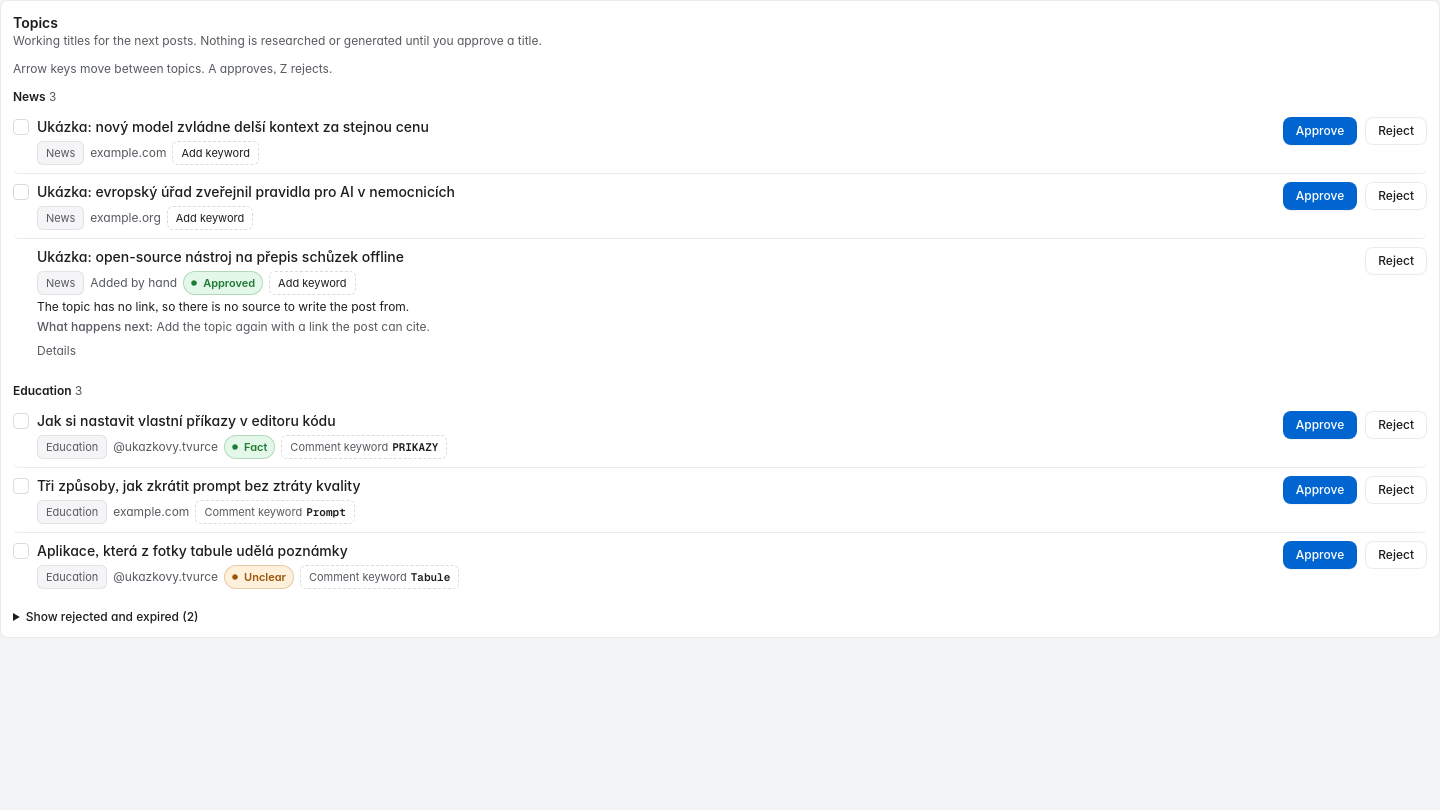
Test: DNESKAi topics list (#154) › approves the selected topics at once
Click the checkbox named "Select: Ukázka: nový model zvládne delší kontext za stejnou": (21, 127) [13, 119, 29, 135]
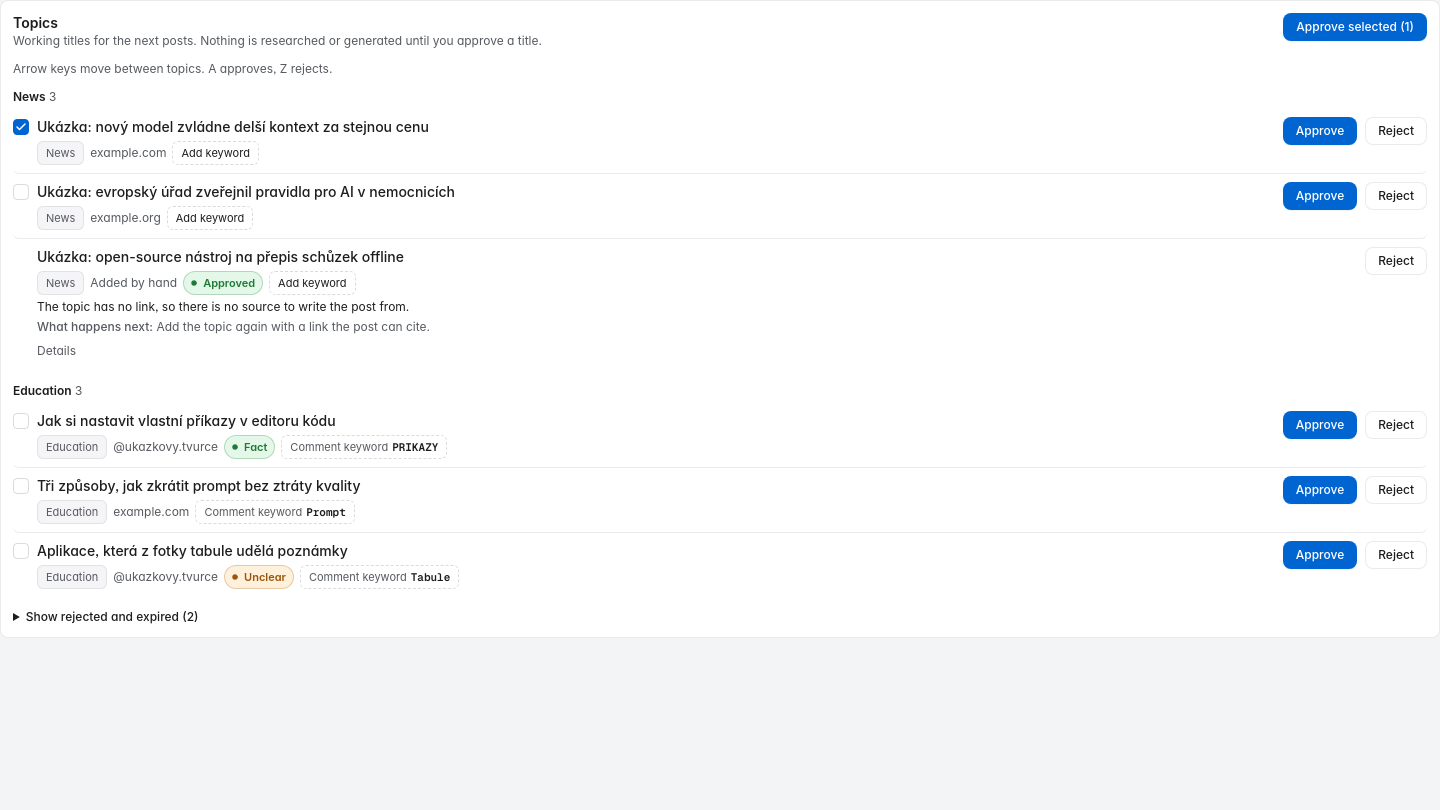
Click the checkbox named "Select: Tři způsoby, jak zkrátit prompt bez ztráty kvality": (21, 486) [13, 478, 29, 494]
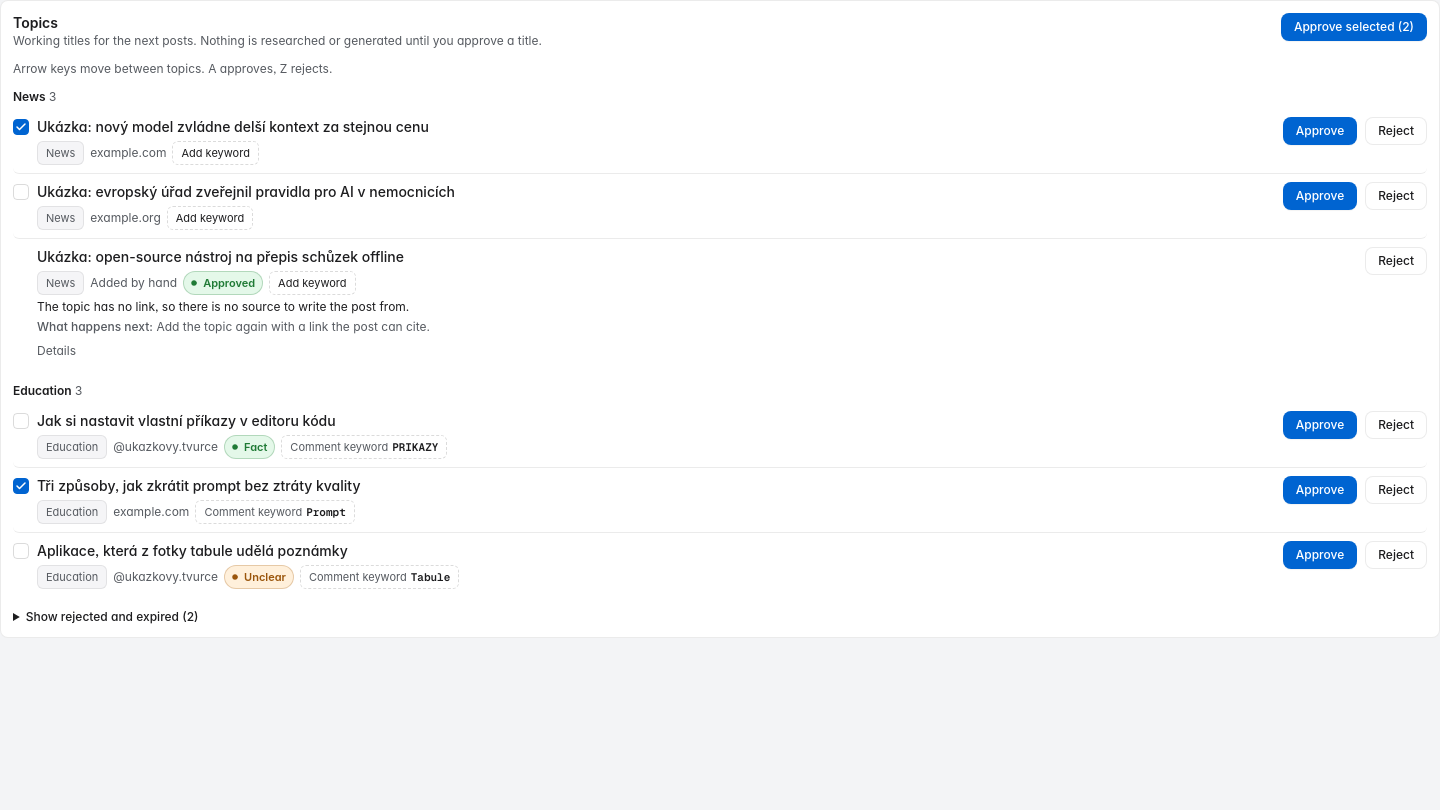
Click the button with test id "dneskai-topics-approve-selected": (1354, 27) [1281, 13, 1427, 41]
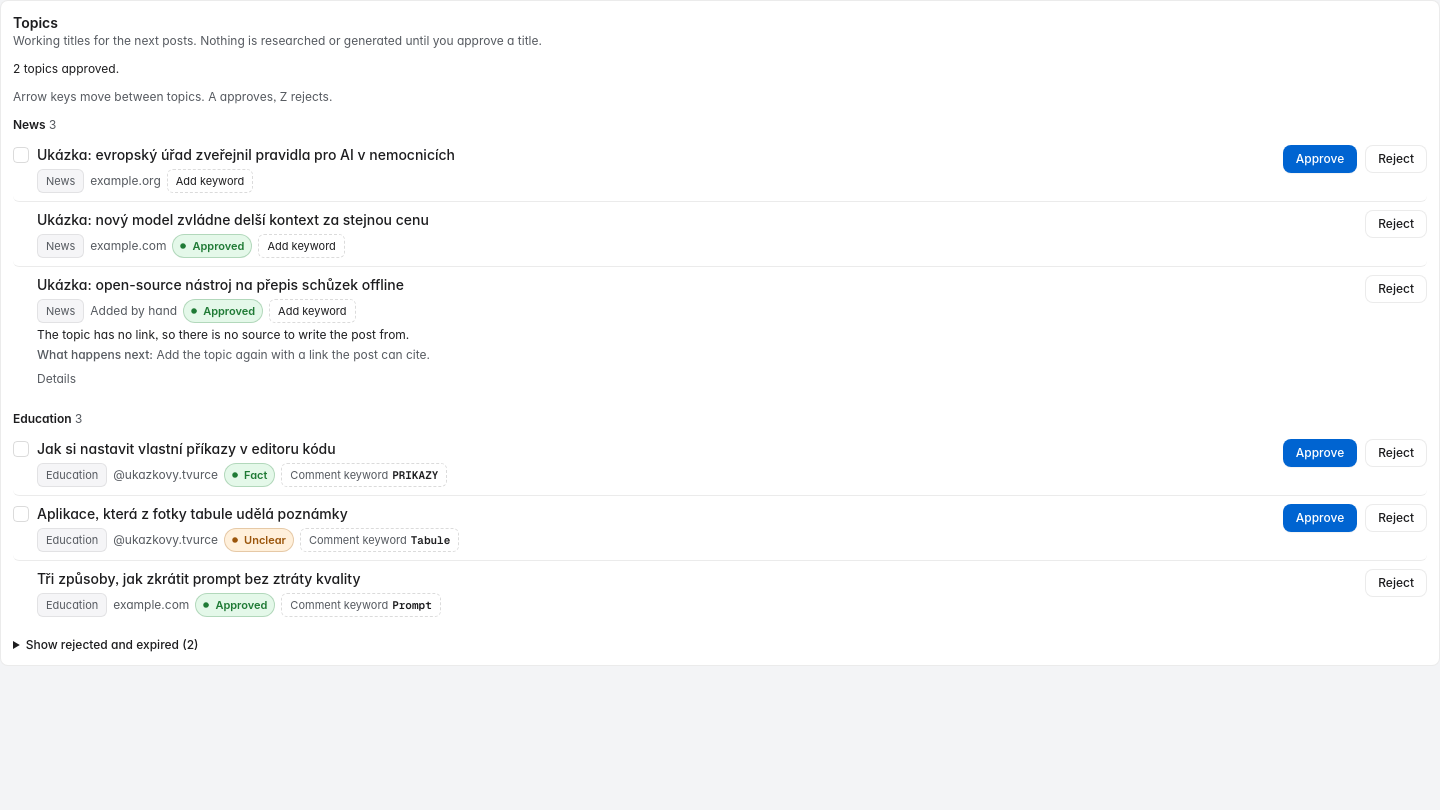
Expected: the button with test id "dneskai-topics-approve-selected" is gone
